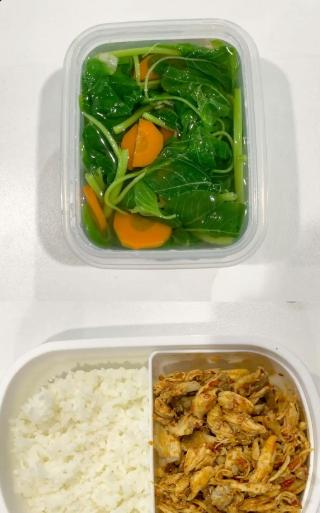buah_sayur_vitA: (93, 51, 243, 244)
daging: (164, 380, 281, 513)
makanan_berpati: (42, 387, 146, 505)
